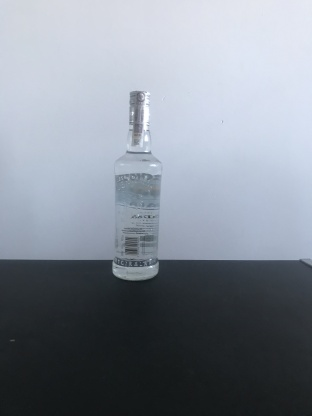nakretka: (126, 88, 152, 127)
